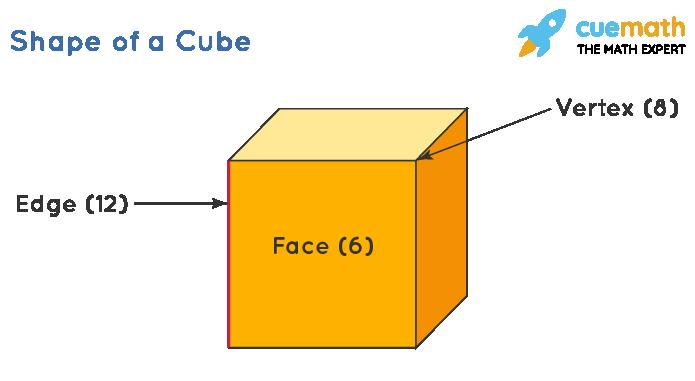cube: (230, 105, 472, 353)
